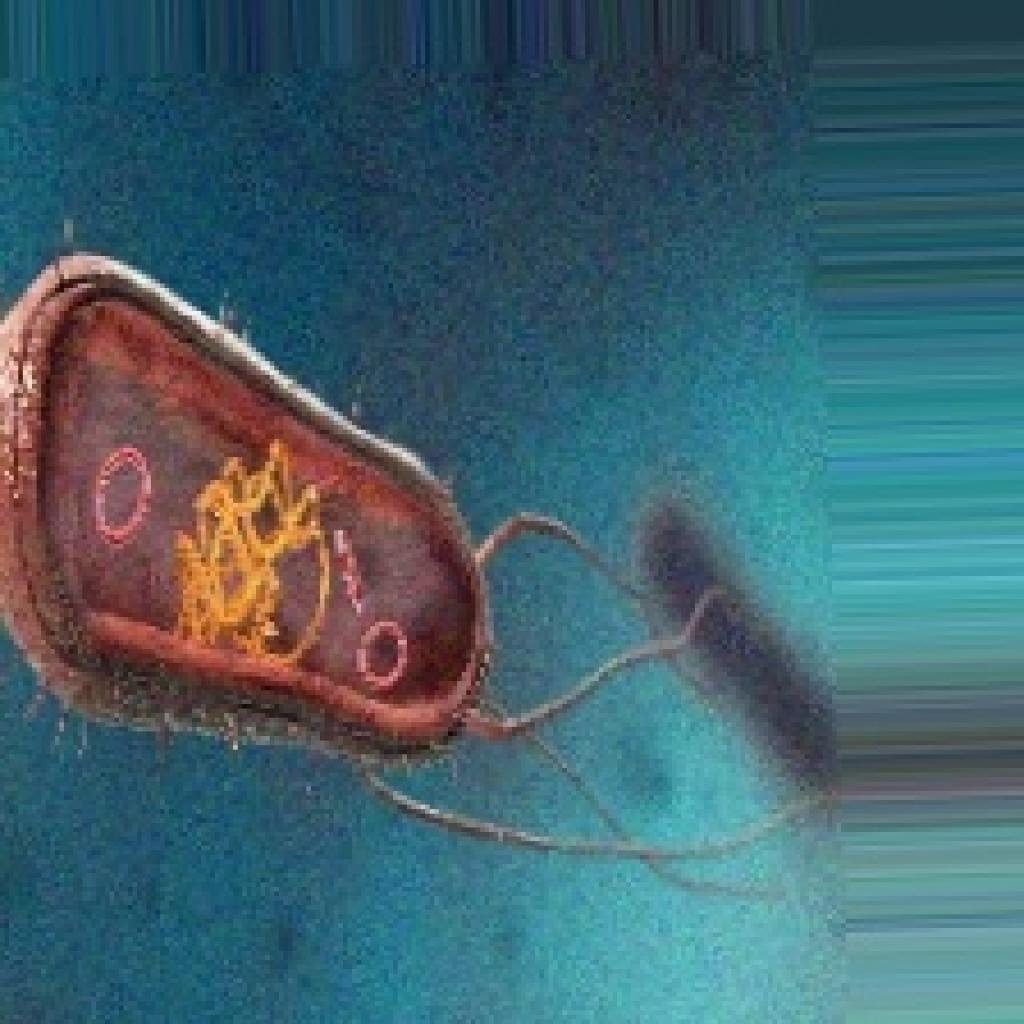Sprialbacteria: (0, 242, 846, 901)
